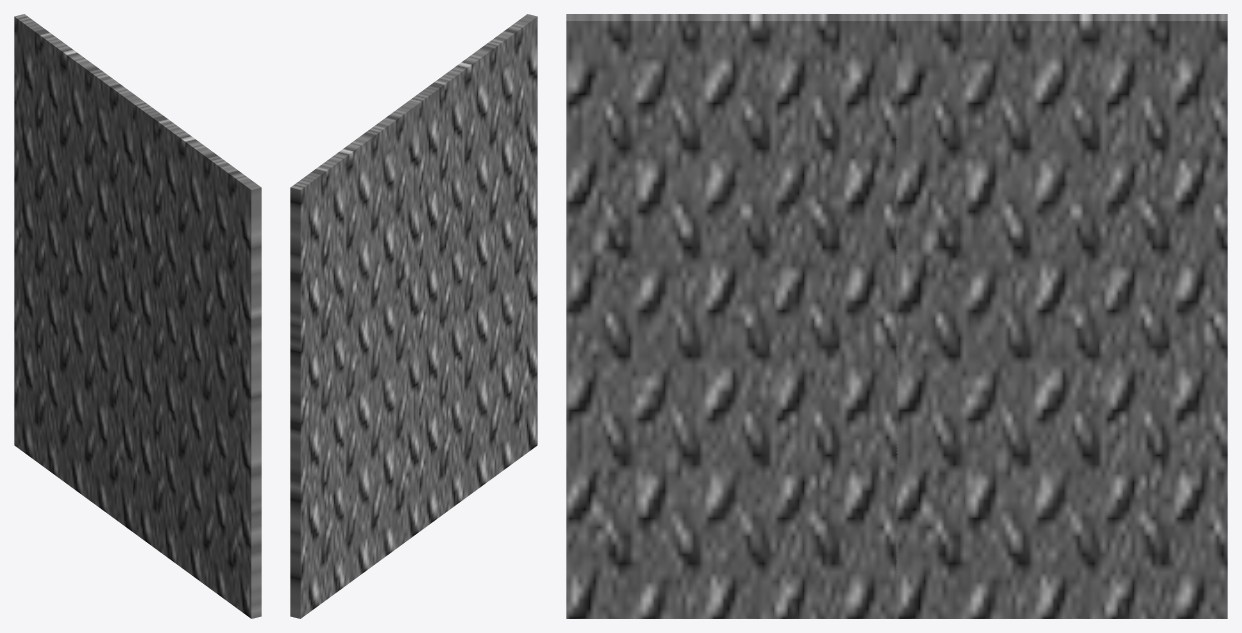
Rendered from TheOuterLevel.fbx_3x3_Door.fbx.
3 renders of one model, left to right at view 1: azimuth 30°, elevation 25°; view 2: azimuth 150°, elevation 25°; view 3: azimuth 270°, elevation 25°, orthographic. The views are drawn at different scales.
Visible parts, largest first — view 1: LeftDoor, RightDoor; view 2: RightDoor, LeftDoor; view 3: RightDoor, LeftDoor.
Boxes of the visible parts, x1=… form: LeftDoor: x1=132, y1=100, x2=261, y2=618; RightDoor: x1=14, y1=14, x2=142, y2=531; RightDoor: x1=290, y1=100, x2=419, y2=618; LeftDoor: x1=409, y1=14, x2=537, y2=531; RightDoor: x1=896, y1=14, x2=1227, y2=618; LeftDoor: x1=566, y1=14, x2=897, y2=618.
Size of the model in its own units: 5 by 200 by 200.
Materials: 1 (1 with a texture image).
